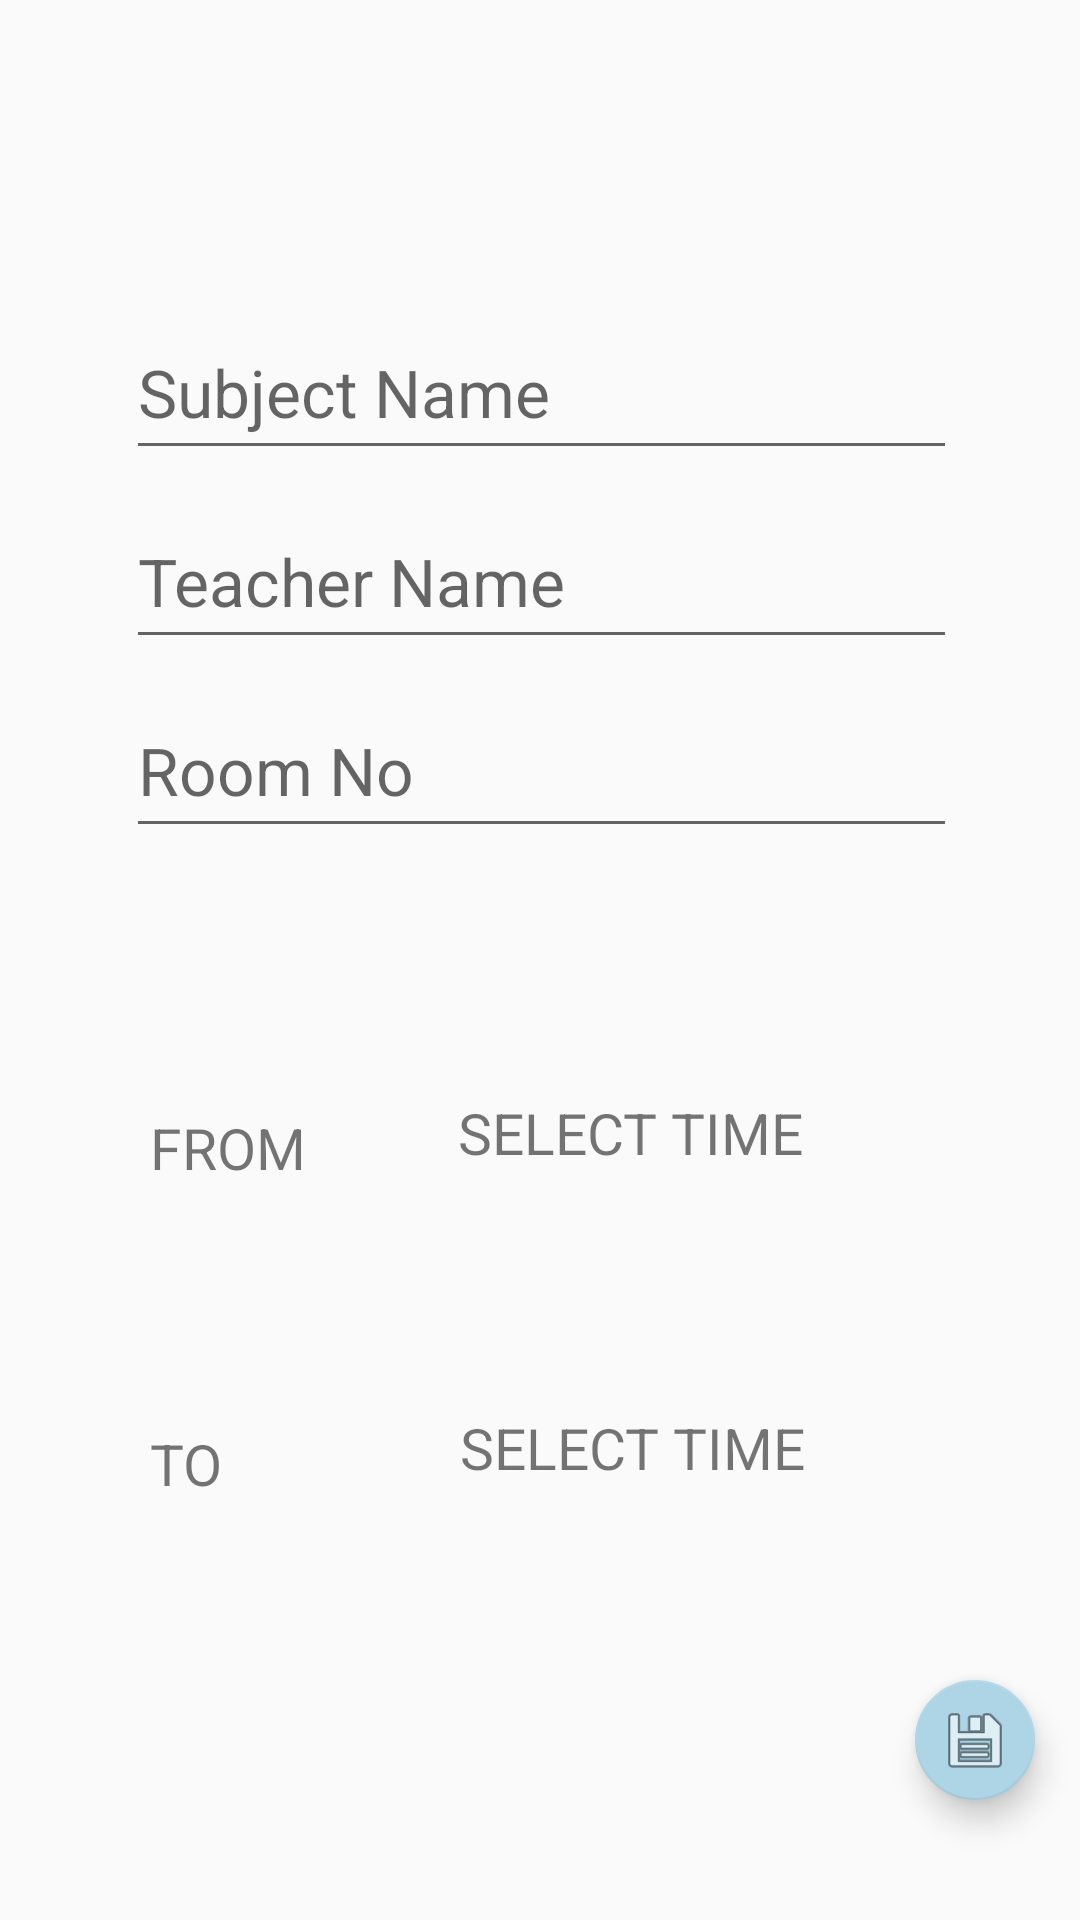

Named icons in this screenshot (1080×1920) and their centers, (x=x, y=y):
save: (x=975, y=1740)
